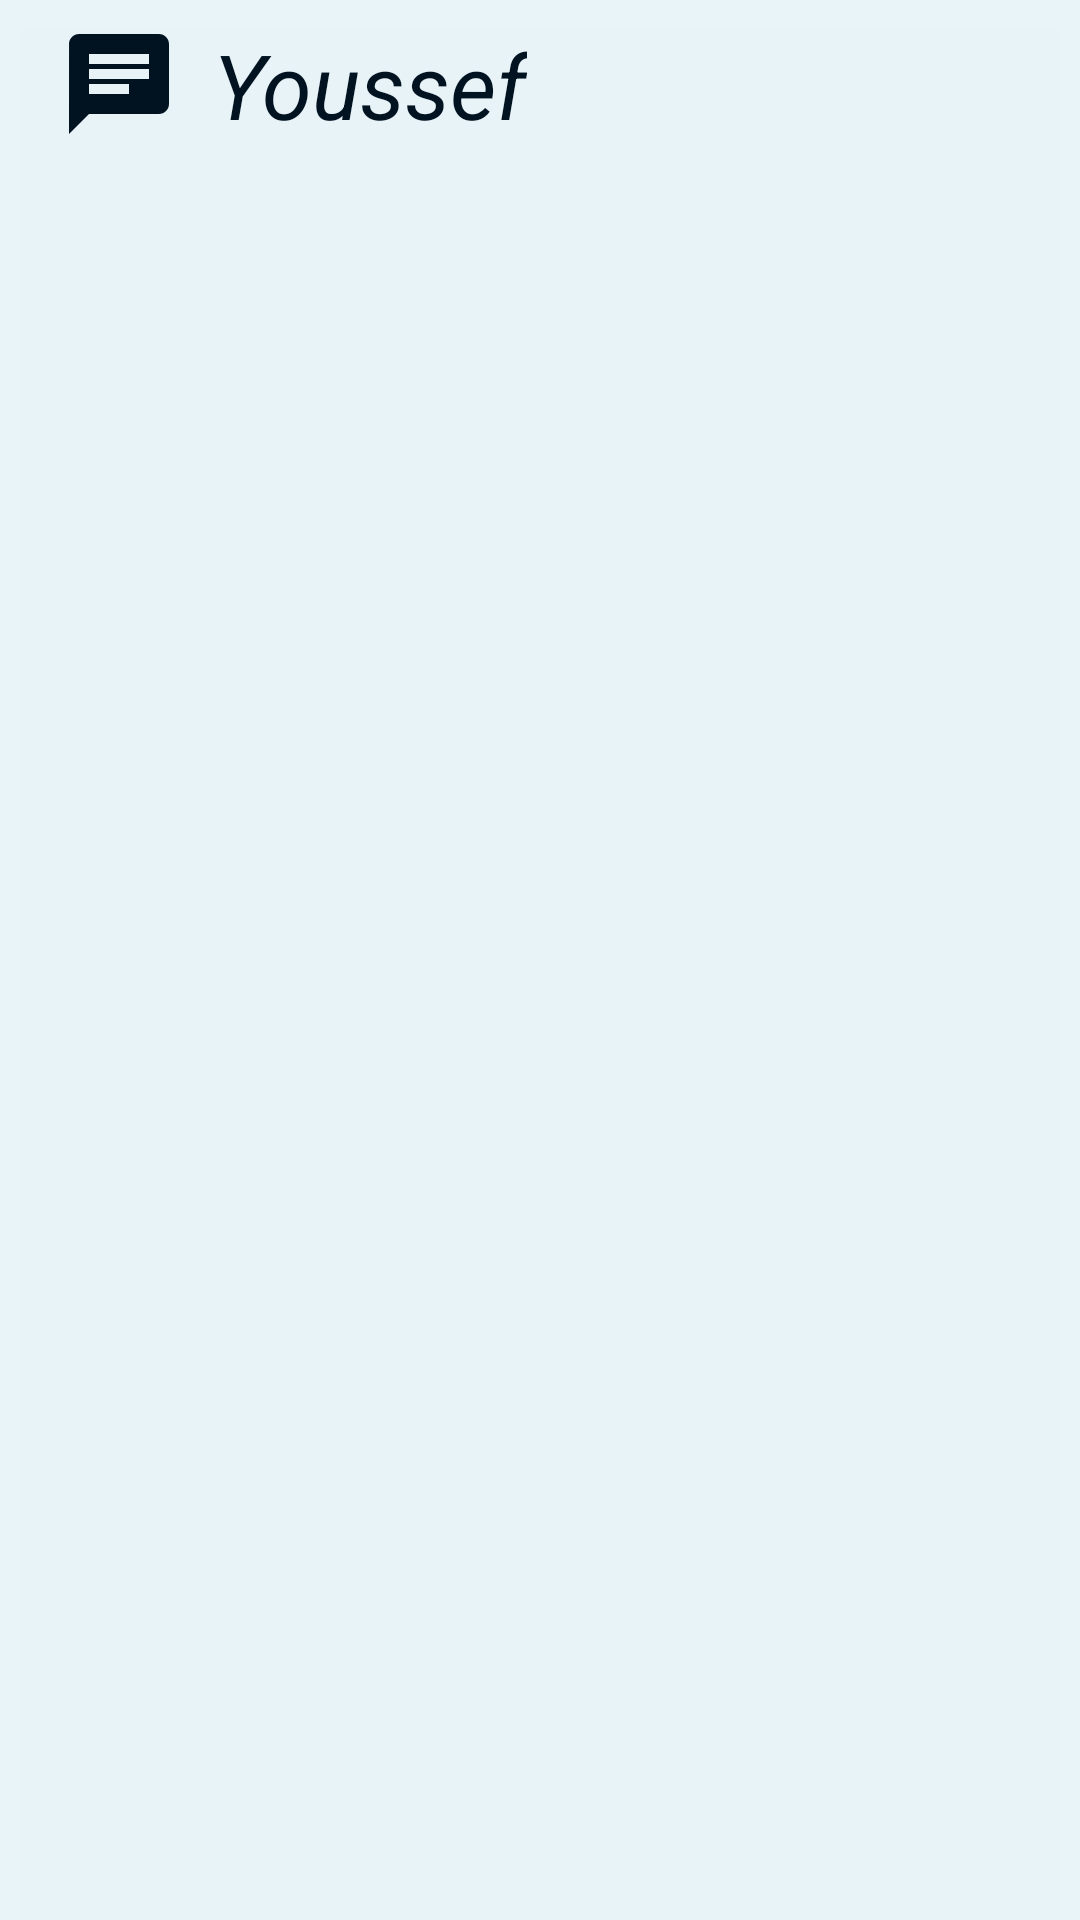

Named icons in this screenshot (1080x1920) and their centers, (x,y):
chat: (119,84)
